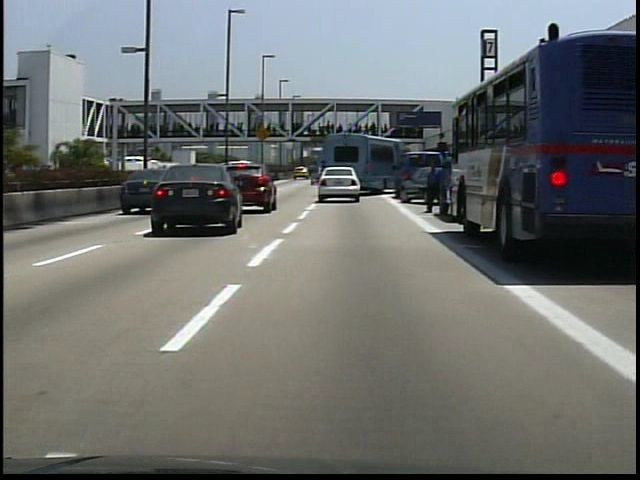person: (424, 160, 445, 216)
